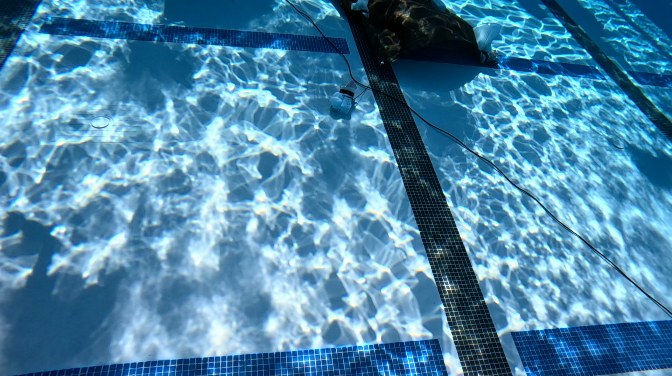sandbag: (344, 0, 506, 72)
